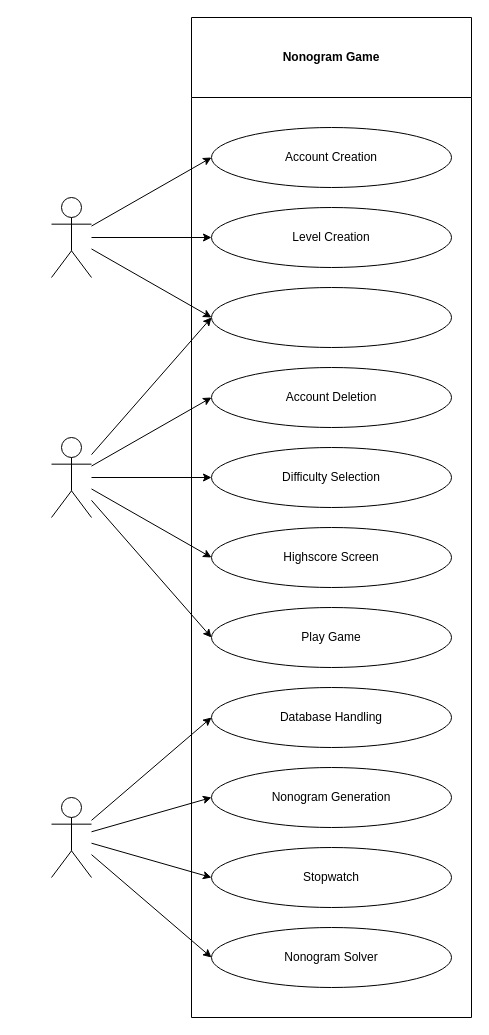
Some shapes in this 489 by 1035 pixel diagram are drawn without their labels. Here are the shapes that lost their labels. From the top down, the box of each, then its label:
(50, 196, 92, 278): Non-registered User
(210, 286, 452, 348): Option Menu
(50, 436, 92, 518): Registered User
(50, 796, 92, 878): System
